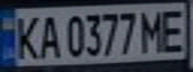0: (63, 11, 84, 57)
3: (81, 10, 103, 57)
7: (118, 8, 142, 56), (100, 9, 121, 56)
A: (33, 11, 63, 60)
E: (157, 6, 190, 53)
K: (9, 11, 42, 61)
M: (136, 7, 169, 54)
